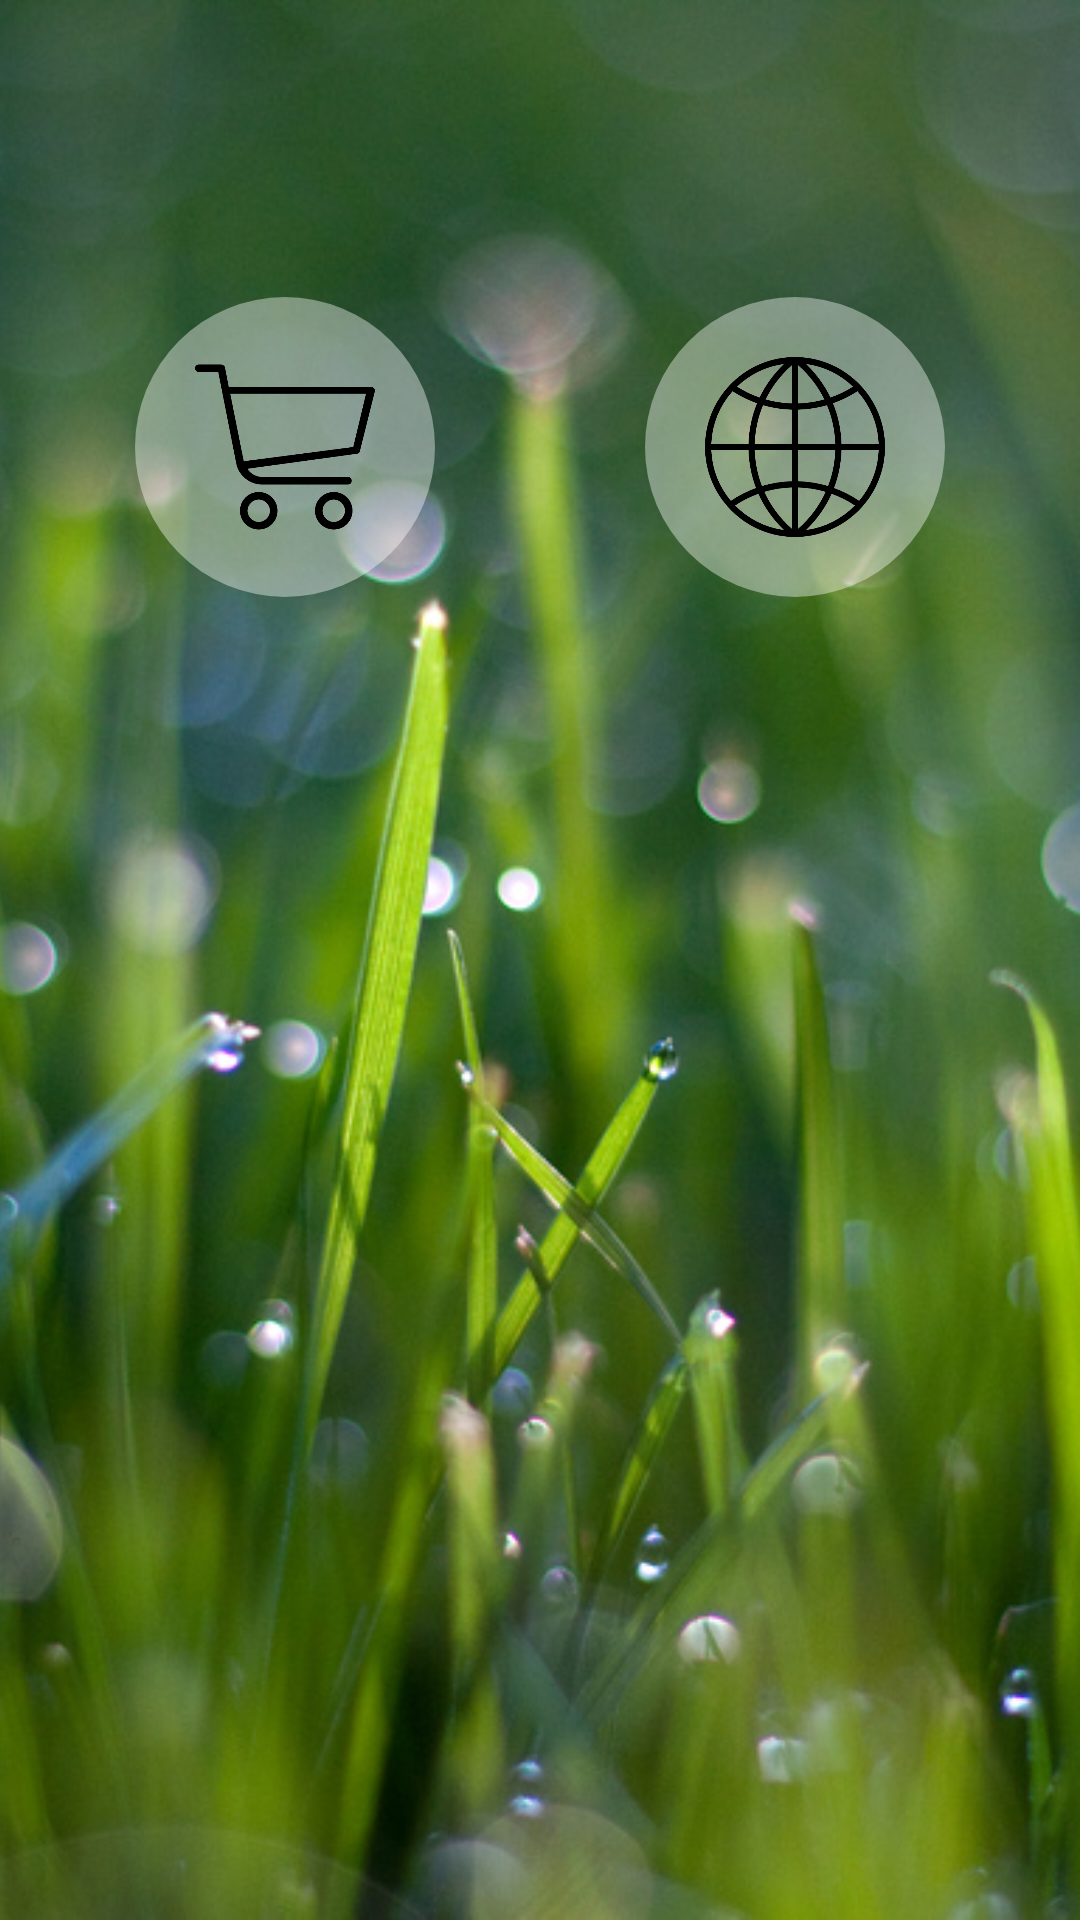

Where to tap for icons on this 1080px×1920px app screen, as point (x, y):
shoppingcart: point (285, 447)
